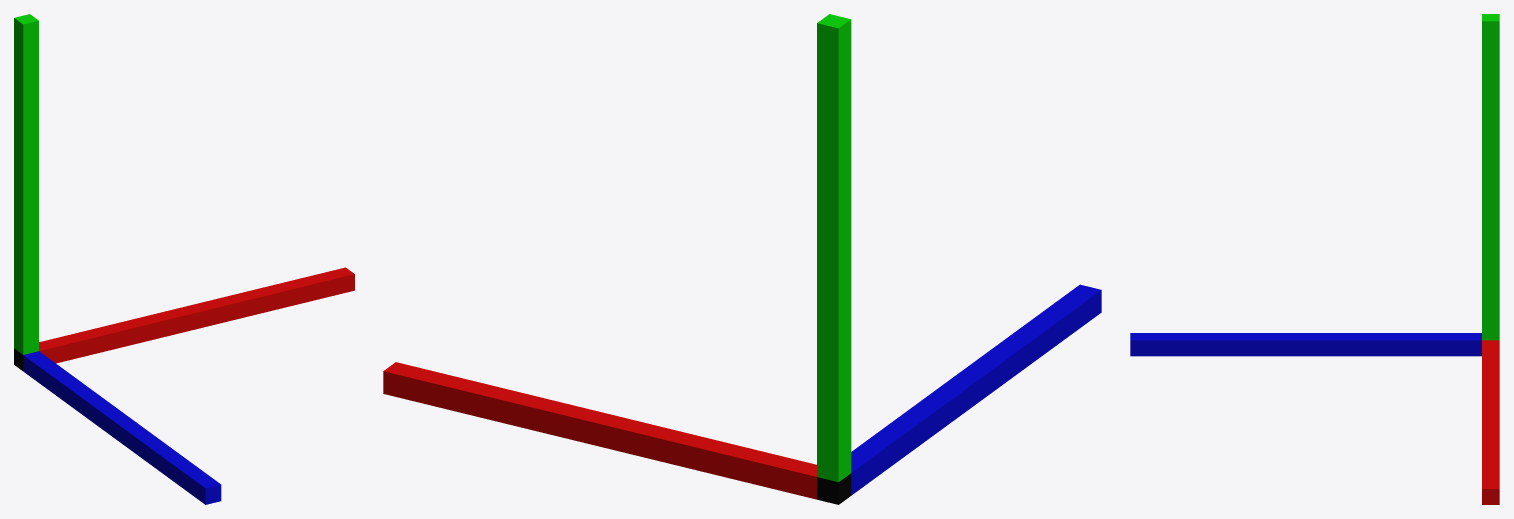
File: axis_gizmo.glb
3 renders of one model, left to right at view 1: azimuth 30°, elevation 25°; view 2: azimuth 150°, elevation 25°; view 3: azimuth 270°, elevation 25°, orthographic. The views are drawn at different scales.
Parts seen in each view (by area): view 1: Axis guizmo; view 2: Axis guizmo; view 3: Axis guizmo.
Part boxes in pixels (bbox=[...]): Axis guizmo: bbox=[14, 14, 354, 504]; Axis guizmo: bbox=[383, 14, 1101, 504]; Axis guizmo: bbox=[1130, 14, 1499, 504].
Bounding box in the file's own units: 2.1 × 2.1 × 2.1.
